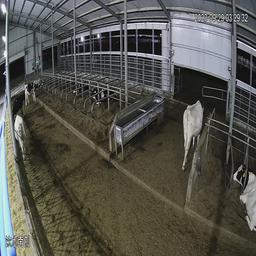cow: (227, 147, 255, 236), (181, 88, 205, 166), (11, 110, 29, 164), (7, 87, 26, 117), (89, 83, 109, 111), (23, 74, 41, 105)
